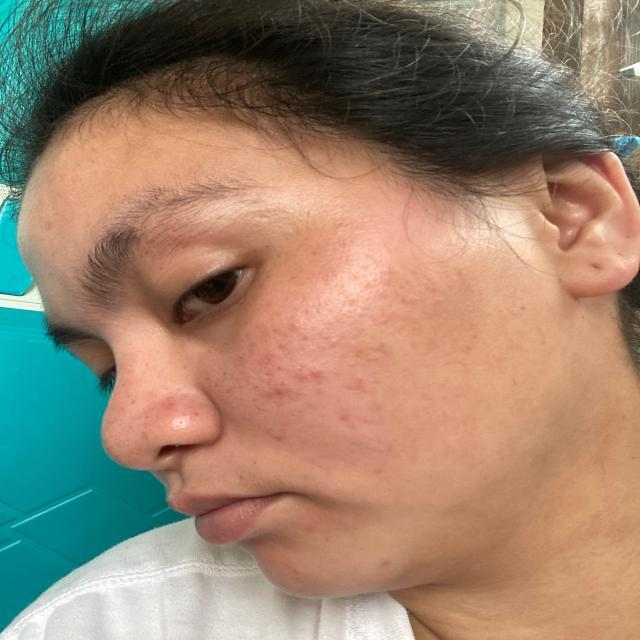Acne: (241, 318, 390, 428), (270, 250, 441, 328), (150, 392, 184, 419), (82, 144, 114, 170), (40, 216, 66, 232)
